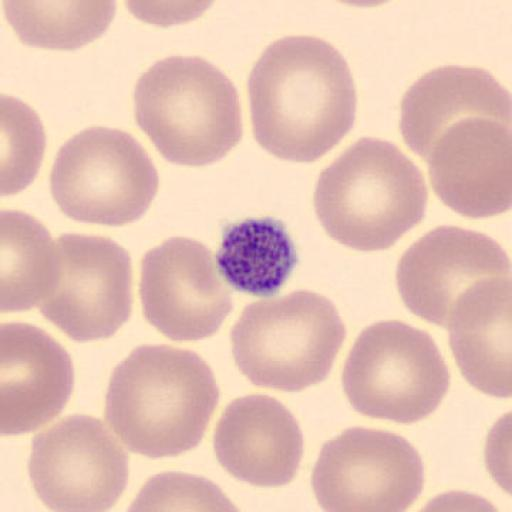Platelet: (214, 212, 302, 298)
RBC: (245, 32, 359, 167), (101, 342, 222, 462), (311, 134, 430, 255), (131, 52, 244, 169), (229, 286, 348, 394), (395, 222, 511, 328), (340, 317, 452, 426), (48, 123, 162, 230), (398, 62, 512, 168), (38, 229, 134, 345), (137, 233, 234, 345), (25, 412, 130, 512), (310, 424, 426, 512), (211, 391, 307, 489), (426, 115, 512, 221), (2, 320, 76, 437), (445, 274, 512, 399), (398, 63, 480, 161), (2, 208, 62, 314), (3, 0, 119, 52), (120, 468, 253, 512), (2, 91, 48, 200), (122, 0, 222, 30), (482, 406, 512, 505), (396, 486, 510, 512), (313, 0, 409, 10)
